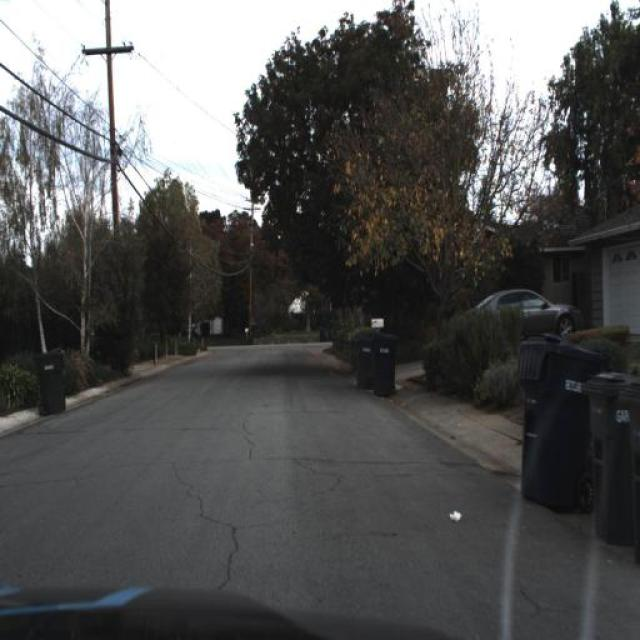car: (469, 284, 585, 351)
